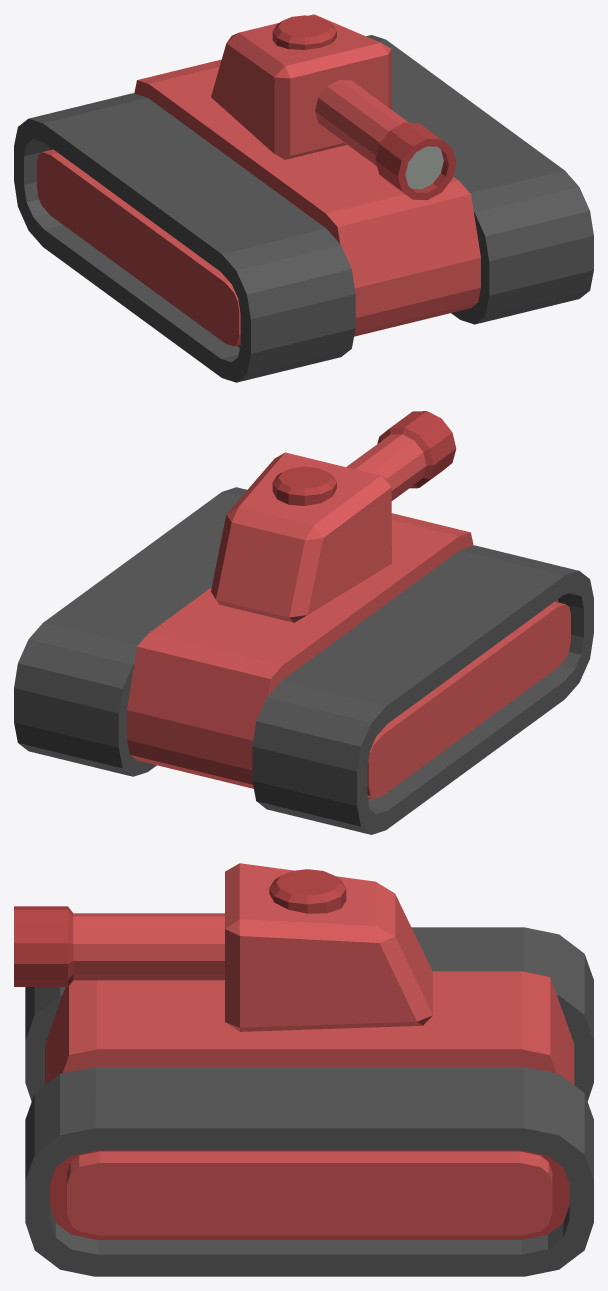
File: Tank3.enemy.fbx
The picture shows the model from 3 angles, top to bottom: view 1: azimuth 30°, elevation 25°; view 2: azimuth 150°, elevation 25°; view 3: azimuth 270°, elevation 25°; orthographic projection. The views are drawn at different scales.
Parts seen in each view (by area): view 1: Tank3.enemy, tank3.enemy.turret; view 2: Tank3.enemy, tank3.enemy.turret; view 3: Tank3.enemy, tank3.enemy.turret.
Boxes of the visible parts, x1=… form: Tank3.enemy: x1=14, y1=35, x2=593, y2=382; tank3.enemy.turret: x1=211, y1=14, x2=456, y2=200; Tank3.enemy: x1=14, y1=487, x2=593, y2=834; tank3.enemy.turret: x1=211, y1=411, x2=456, y2=622; Tank3.enemy: x1=25, y1=927, x2=593, y2=1276; tank3.enemy.turret: x1=14, y1=863, x2=432, y2=1031.
Bounding box in the file's own units: 3.78 × 2.58 × 4.61.
